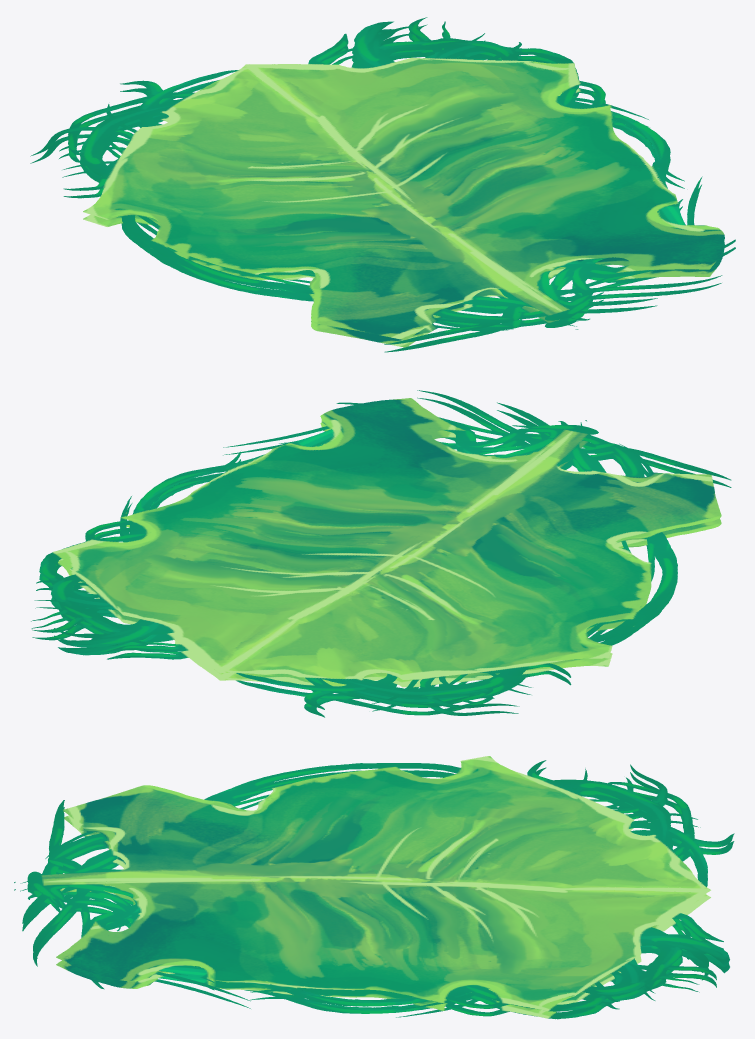
The model's file is Leaf_Platform.fbx.
3 renders of one model, top to bottom at view 1: azimuth 30°, elevation 25°; view 2: azimuth 150°, elevation 25°; view 3: azimuth 270°, elevation 25°, orthographic.
Parts seen in each view (by area): view 1: pPlane3; view 2: pPlane3; view 3: pPlane3.
Part boxes in pixels (<box>): pPlane3: <box>30,17,735,352</box>; pPlane3: <box>31,390,731,717</box>; pPlane3: <box>14,756,734,1019</box>.
Size of the model in its own units: 300 by 3.95 by 350.
